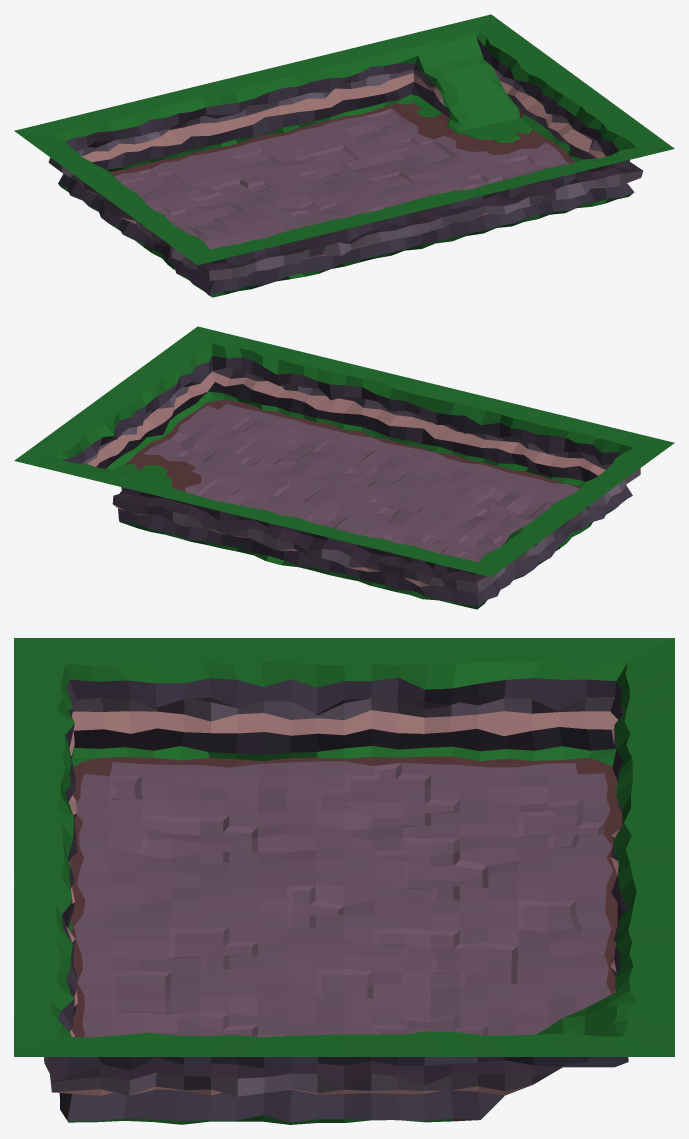
File: terreno.fbx
The picture shows the model from 3 angles, top to bottom: view 1: azimuth 30°, elevation 25°; view 2: azimuth 150°, elevation 25°; view 3: azimuth 270°, elevation 25°; orthographic projection. The views are drawn at different scales.
Visible parts, largest first — view 1: Plane; view 2: Plane; view 3: Plane.
Part boxes in pixels (x1,y1,x2,y2): Plane: (14, 14, 674, 297); Plane: (14, 326, 674, 609); Plane: (14, 638, 674, 1124).
Bounding box in the file's own units: 6000 × 712 × 4000.
Materials: 1 (1 with a texture image).
